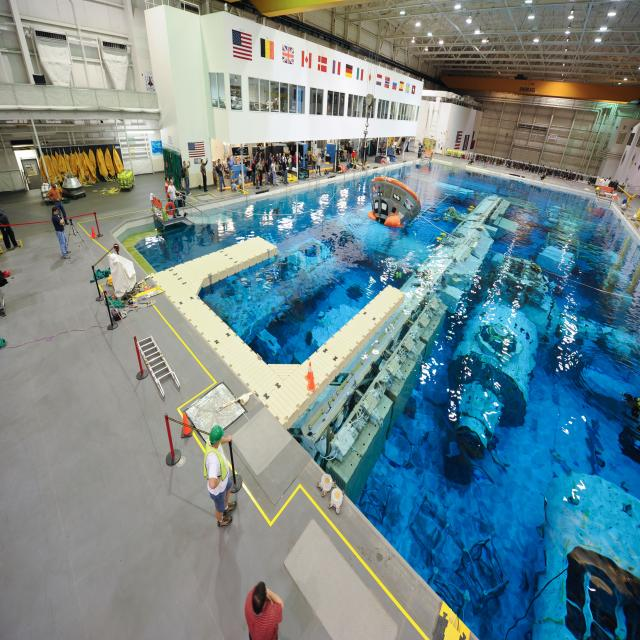Orange_colored_life-ring: (166, 201, 176, 217)
Orion_capsule_mockup_ WEST _located_on_far_end_of_pool: (367, 176, 422, 232)
